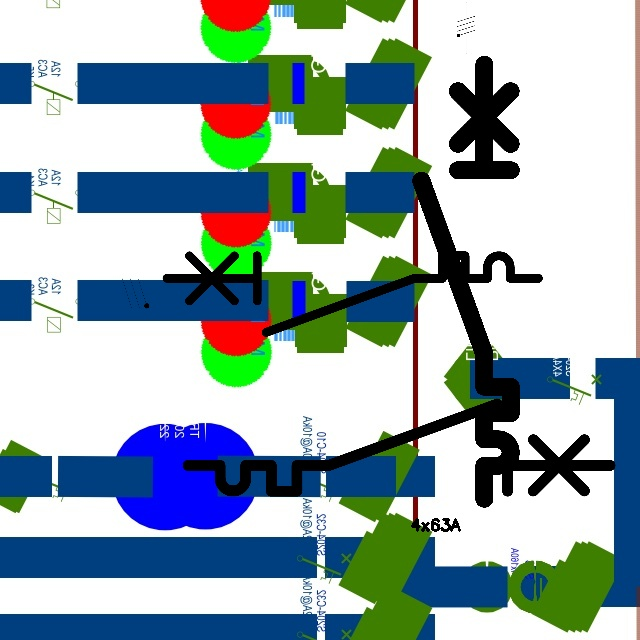interruptor_termomagnetico: (410, 53, 522, 509), (177, 393, 621, 502), (157, 246, 548, 341)
